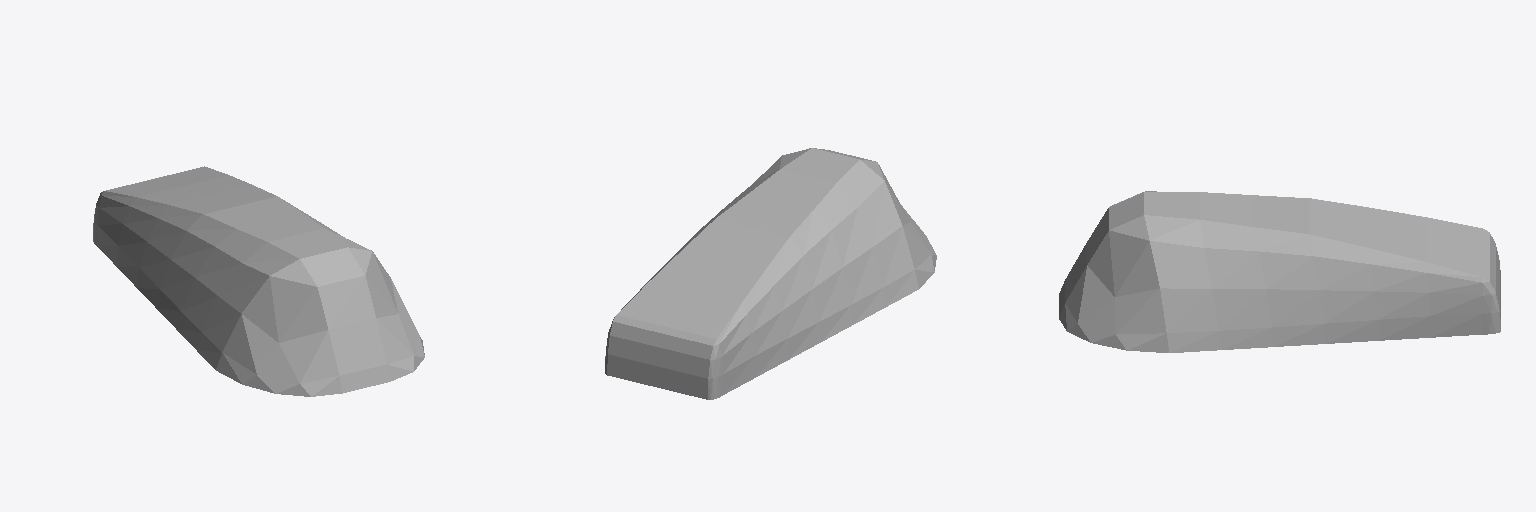
Rendered from RoadLight2.obj.
The picture shows the model from 3 angles: view 1: azimuth 30°, elevation 25°; view 2: azimuth 150°, elevation 25°; view 3: azimuth 270°, elevation 25°; orthographic projection.
Bounding box in the file's own units: 1 × 0.526 × 2.